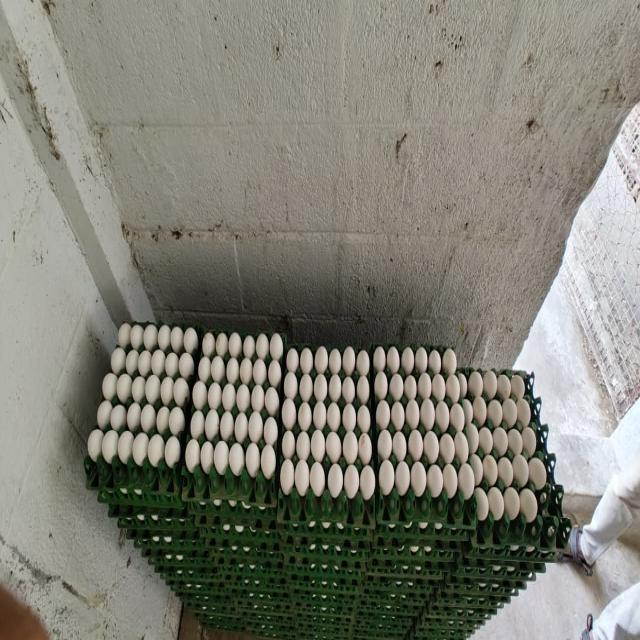egg_tray: (445, 371, 570, 611), (86, 323, 199, 503), (373, 345, 474, 527), (462, 371, 566, 547), (182, 332, 284, 505), (278, 346, 375, 526), (176, 563, 350, 637), (416, 542, 544, 632), (171, 567, 294, 636), (110, 507, 210, 581), (366, 538, 462, 613), (188, 498, 282, 574), (109, 504, 208, 576), (110, 506, 209, 576), (368, 523, 463, 593), (172, 563, 290, 619), (368, 522, 472, 582), (184, 585, 300, 638), (84, 457, 184, 517), (282, 538, 368, 607), (472, 503, 571, 561), (463, 518, 570, 570), (288, 545, 366, 616), (279, 520, 372, 578), (164, 563, 288, 606), (288, 565, 363, 636), (433, 565, 535, 617), (279, 521, 372, 578), (182, 481, 276, 537), (166, 562, 288, 605), (184, 592, 298, 637), (290, 565, 362, 636), (168, 565, 290, 606), (352, 576, 434, 637), (85, 457, 182, 508), (440, 551, 544, 598), (368, 538, 464, 588), (442, 562, 544, 609), (127, 512, 210, 569), (354, 577, 434, 636), (200, 523, 284, 575), (368, 537, 462, 582), (185, 498, 277, 543), (134, 531, 214, 581), (408, 595, 500, 637), (126, 521, 208, 565), (184, 594, 273, 633), (132, 531, 208, 576), (462, 537, 557, 572), (237, 581, 296, 637), (292, 588, 359, 637), (284, 564, 366, 602), (282, 536, 370, 571), (278, 522, 373, 553), (294, 591, 358, 637), (122, 511, 200, 548), (236, 581, 296, 629), (449, 558, 545, 588), (408, 607, 498, 639), (439, 575, 526, 608), (350, 598, 420, 639), (292, 592, 357, 636), (108, 505, 197, 537), (236, 589, 296, 636), (294, 593, 358, 637), (424, 589, 504, 624), (186, 498, 276, 529), (370, 553, 454, 586), (462, 536, 557, 565), (199, 518, 280, 552), (282, 543, 368, 575), (358, 576, 436, 611), (293, 594, 356, 637), (372, 521, 472, 548), (430, 585, 517, 616), (118, 510, 202, 542), (196, 613, 299, 639), (422, 597, 508, 628), (208, 538, 284, 573), (409, 606, 487, 639), (413, 606, 496, 637), (295, 597, 356, 639), (294, 594, 356, 635), (428, 604, 503, 635), (296, 602, 357, 639), (165, 572, 224, 610), (126, 530, 206, 556), (142, 547, 210, 577), (350, 607, 412, 639), (188, 598, 246, 632), (244, 607, 304, 639), (147, 549, 211, 578), (189, 600, 246, 632), (350, 610, 412, 639), (248, 611, 304, 639), (246, 610, 300, 639), (406, 618, 480, 639), (246, 613, 300, 639), (304, 613, 358, 639), (350, 616, 406, 639), (200, 616, 228, 628), (552, 485, 562, 500), (294, 584, 314, 591), (248, 620, 258, 632), (350, 589, 358, 602), (256, 632, 274, 637), (478, 492, 484, 506), (114, 512, 123, 520), (543, 516, 550, 526), (476, 462, 481, 476), (183, 482, 188, 494), (295, 585, 309, 589), (144, 514, 152, 521), (276, 583, 282, 592), (534, 565, 544, 570), (157, 512, 164, 519), (540, 489, 545, 498), (496, 522, 503, 528), (226, 584, 238, 587), (300, 569, 306, 574), (458, 633, 468, 636), (306, 631, 312, 636), (138, 522, 143, 527), (496, 566, 501, 571), (248, 611, 252, 617), (324, 577, 330, 581), (238, 583, 244, 587), (466, 530, 469, 538), (340, 574, 344, 580), (321, 629, 328, 632), (336, 633, 346, 635), (200, 572, 205, 576), (119, 523, 124, 527), (356, 578, 360, 583), (272, 582, 275, 588), (458, 633, 464, 636), (378, 525, 384, 528), (208, 606, 214, 609), (275, 626, 280, 629), (482, 468, 484, 475), (192, 608, 196, 611), (518, 493, 520, 498), (230, 594, 233, 597), (361, 574, 363, 578), (289, 572, 293, 574), (442, 528, 446, 530), (316, 598, 320, 600), (174, 517, 177, 519), (191, 582, 197, 583), (257, 605, 260, 607), (266, 577, 268, 580), (316, 582, 318, 585), (110, 510, 111, 516), (348, 587, 351, 589), (310, 588, 314, 589), (409, 620, 411, 622), (241, 544, 243, 546), (329, 588, 331, 590), (343, 558, 345, 560), (530, 577, 534, 578), (275, 635, 278, 636), (216, 607, 219, 608), (495, 575, 498, 576), (234, 602, 235, 604), (138, 530, 140, 531), (191, 519, 192, 521), (147, 517, 148, 519), (258, 605, 260, 606), (340, 591, 342, 592), (222, 627, 224, 628), (345, 530, 345, 531), (226, 536, 228, 536), (136, 518, 136, 519), (536, 492, 538, 492), (496, 607, 496, 608), (514, 508, 514, 510), (438, 632, 438, 632), (286, 556, 286, 558), (352, 607, 352, 609), (342, 632, 343, 632), (290, 620, 290, 622), (201, 608, 201, 609)
